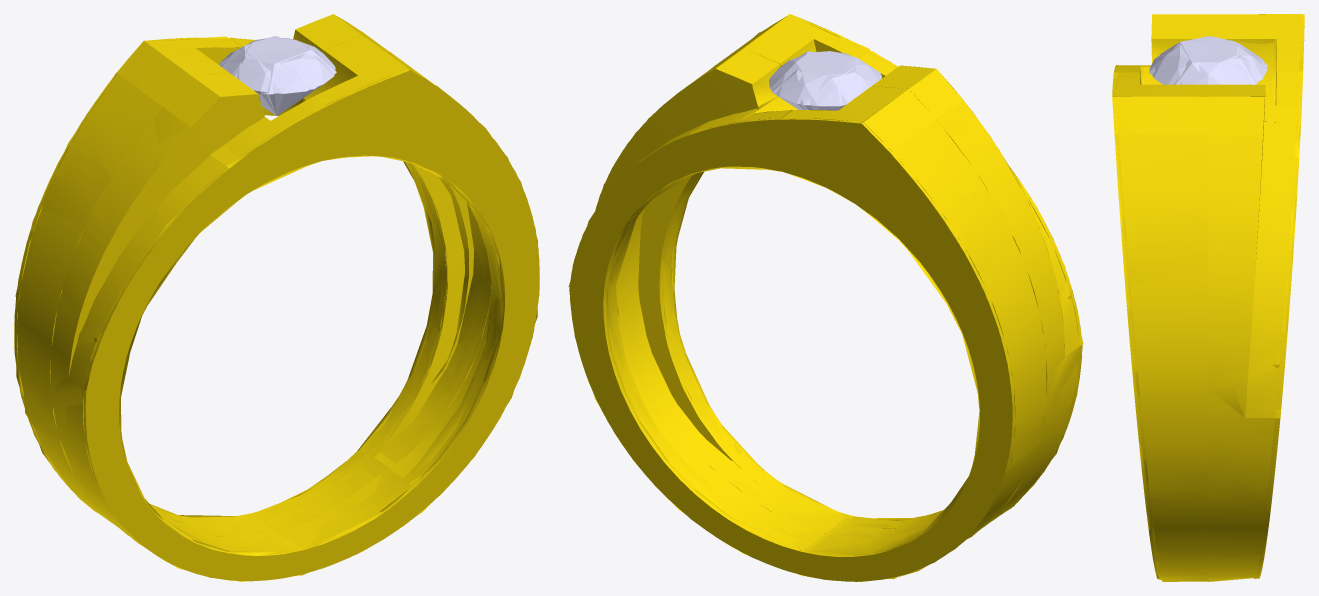
The model's file is DGR-D000669866.glb.
3 renders of one model, left to right at view 1: azimuth 30°, elevation 25°; view 2: azimuth 150°, elevation 25°; view 3: azimuth 270°, elevation 25°, orthographic. The views are drawn at different scales.
Parts seen in each view (by area): view 1: highPolyMesh, lowPolyMesh; view 2: highPolyMesh, lowPolyMesh; view 3: highPolyMesh, lowPolyMesh.
Part boxes in pixels (box(x1,y1,x2,y2)): highPolyMesh: box(14, 14, 539, 580); lowPolyMesh: box(14, 19, 539, 581); highPolyMesh: box(569, 14, 1082, 581); lowPolyMesh: box(568, 15, 1083, 581); highPolyMesh: box(1112, 14, 1304, 578); lowPolyMesh: box(1112, 14, 1304, 581).
Size of the model in its own units: 0.0226 by 0.0241 by 0.0083.
